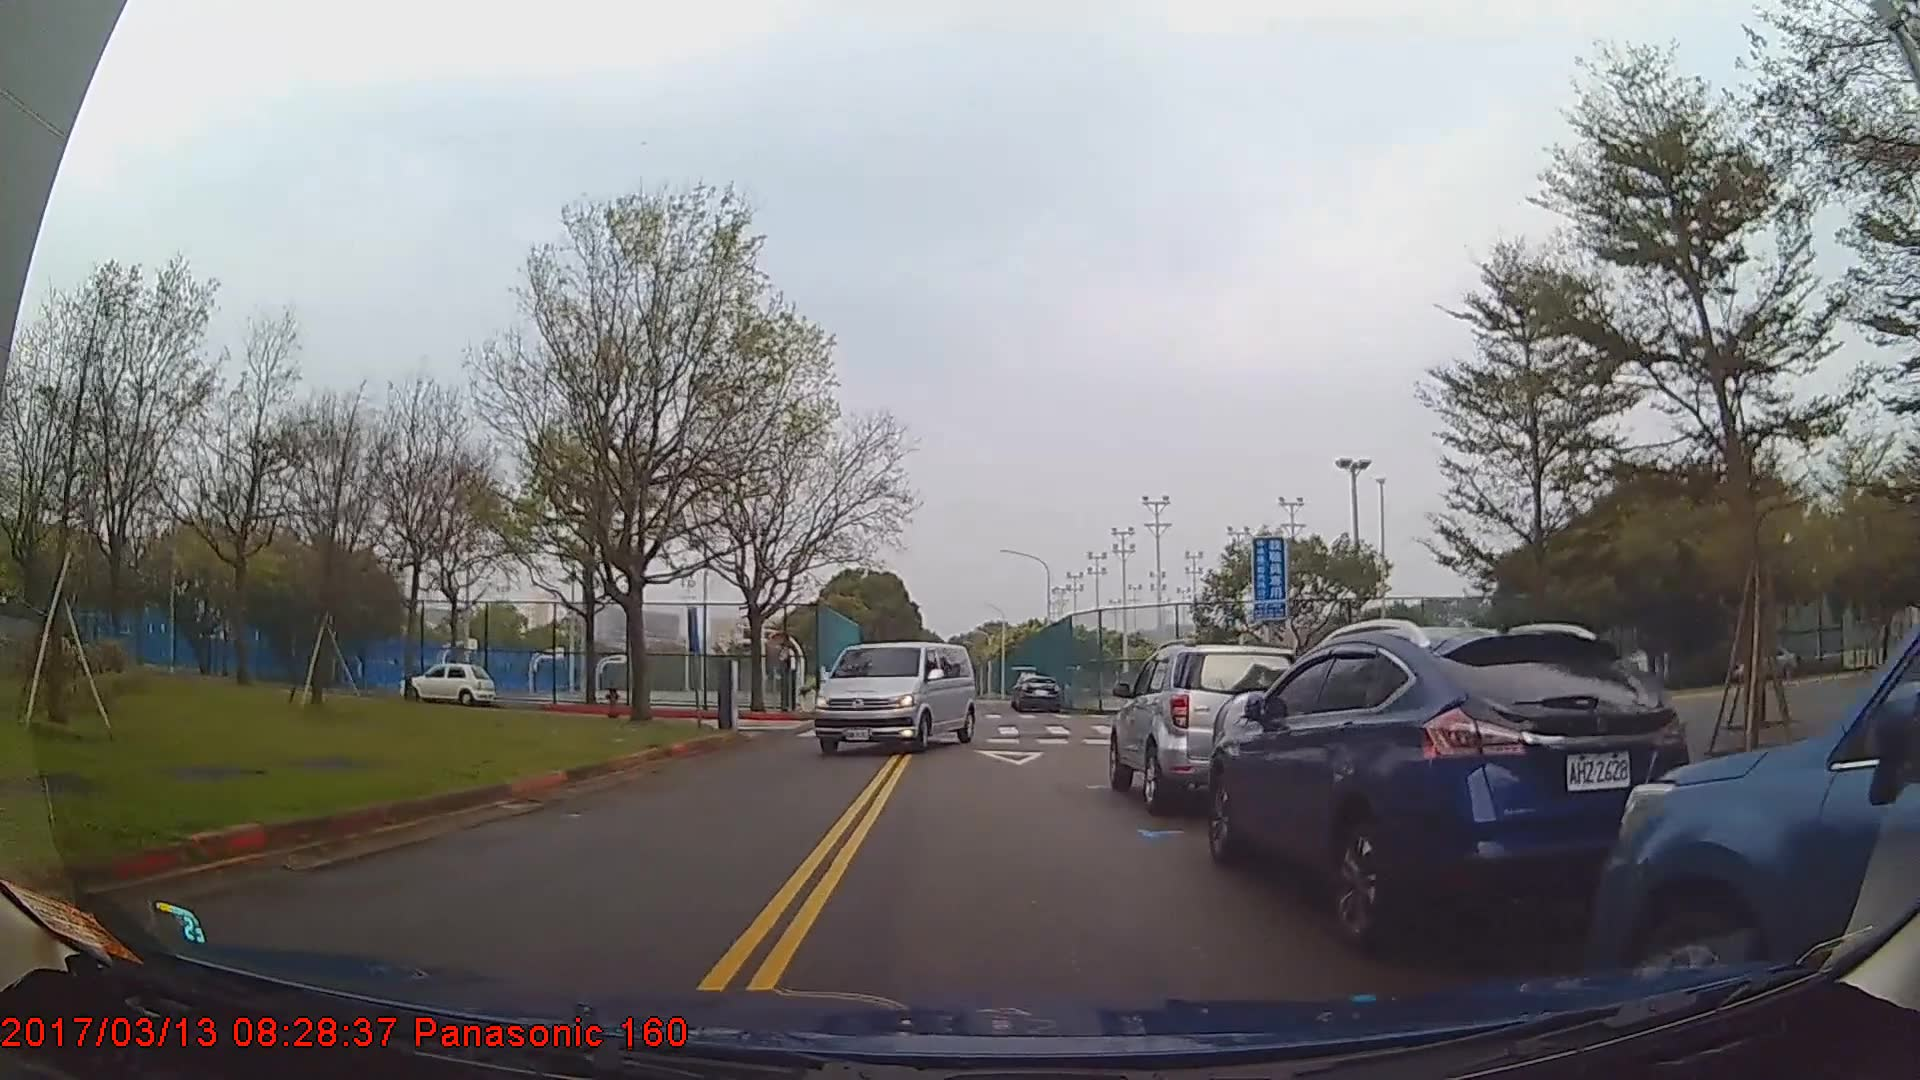vehicle: (1205, 622, 1691, 947), (1596, 633, 1920, 1025), (1105, 642, 1305, 808), (814, 641, 976, 753), (402, 659, 495, 704), (1015, 674, 1062, 715)
